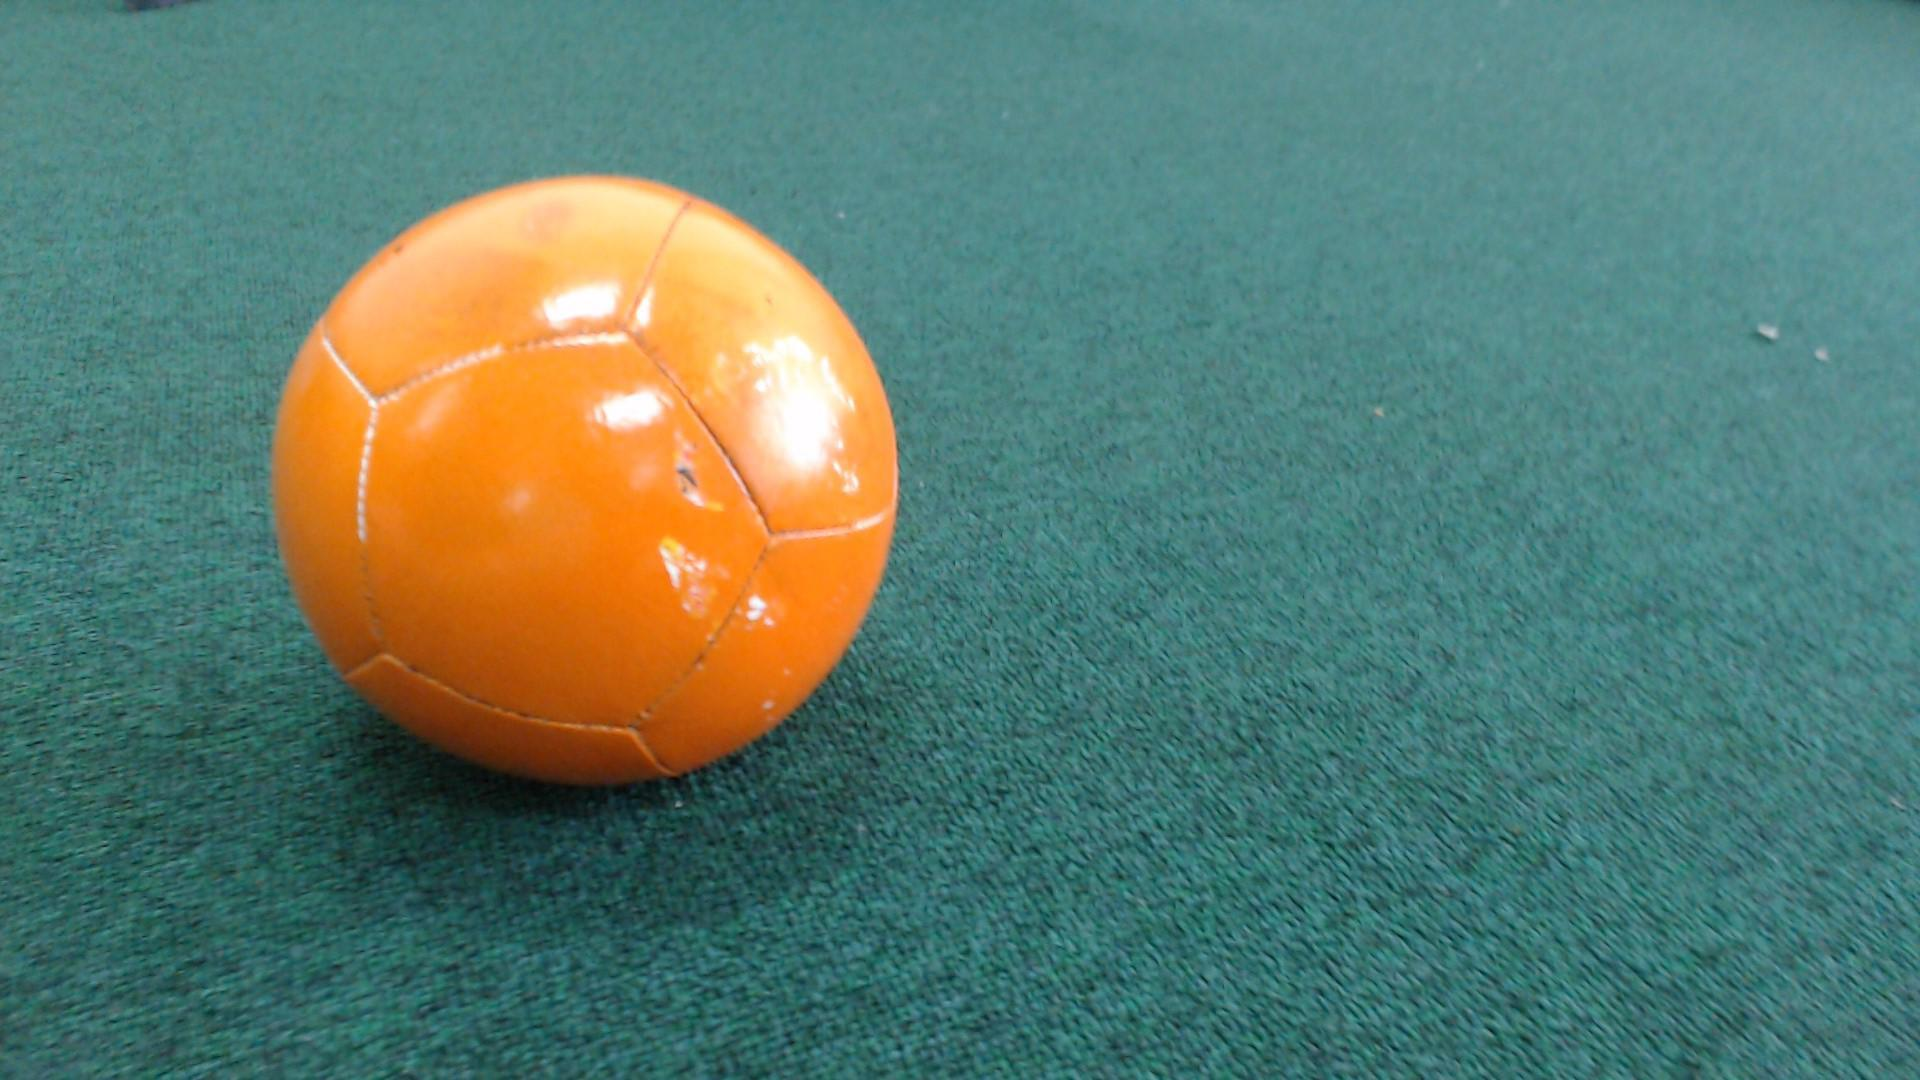bola: (222, 129, 945, 864)
